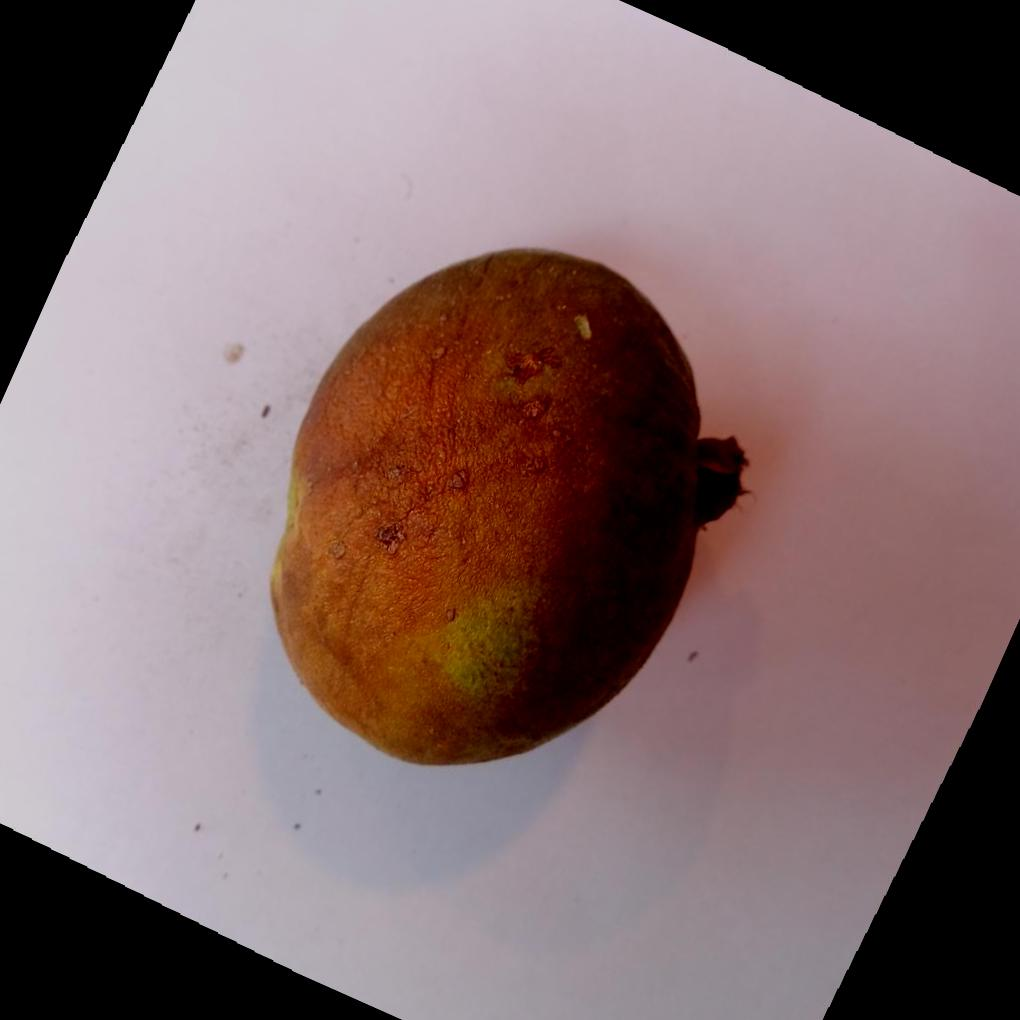FreshOrange: (264, 246, 738, 767)
